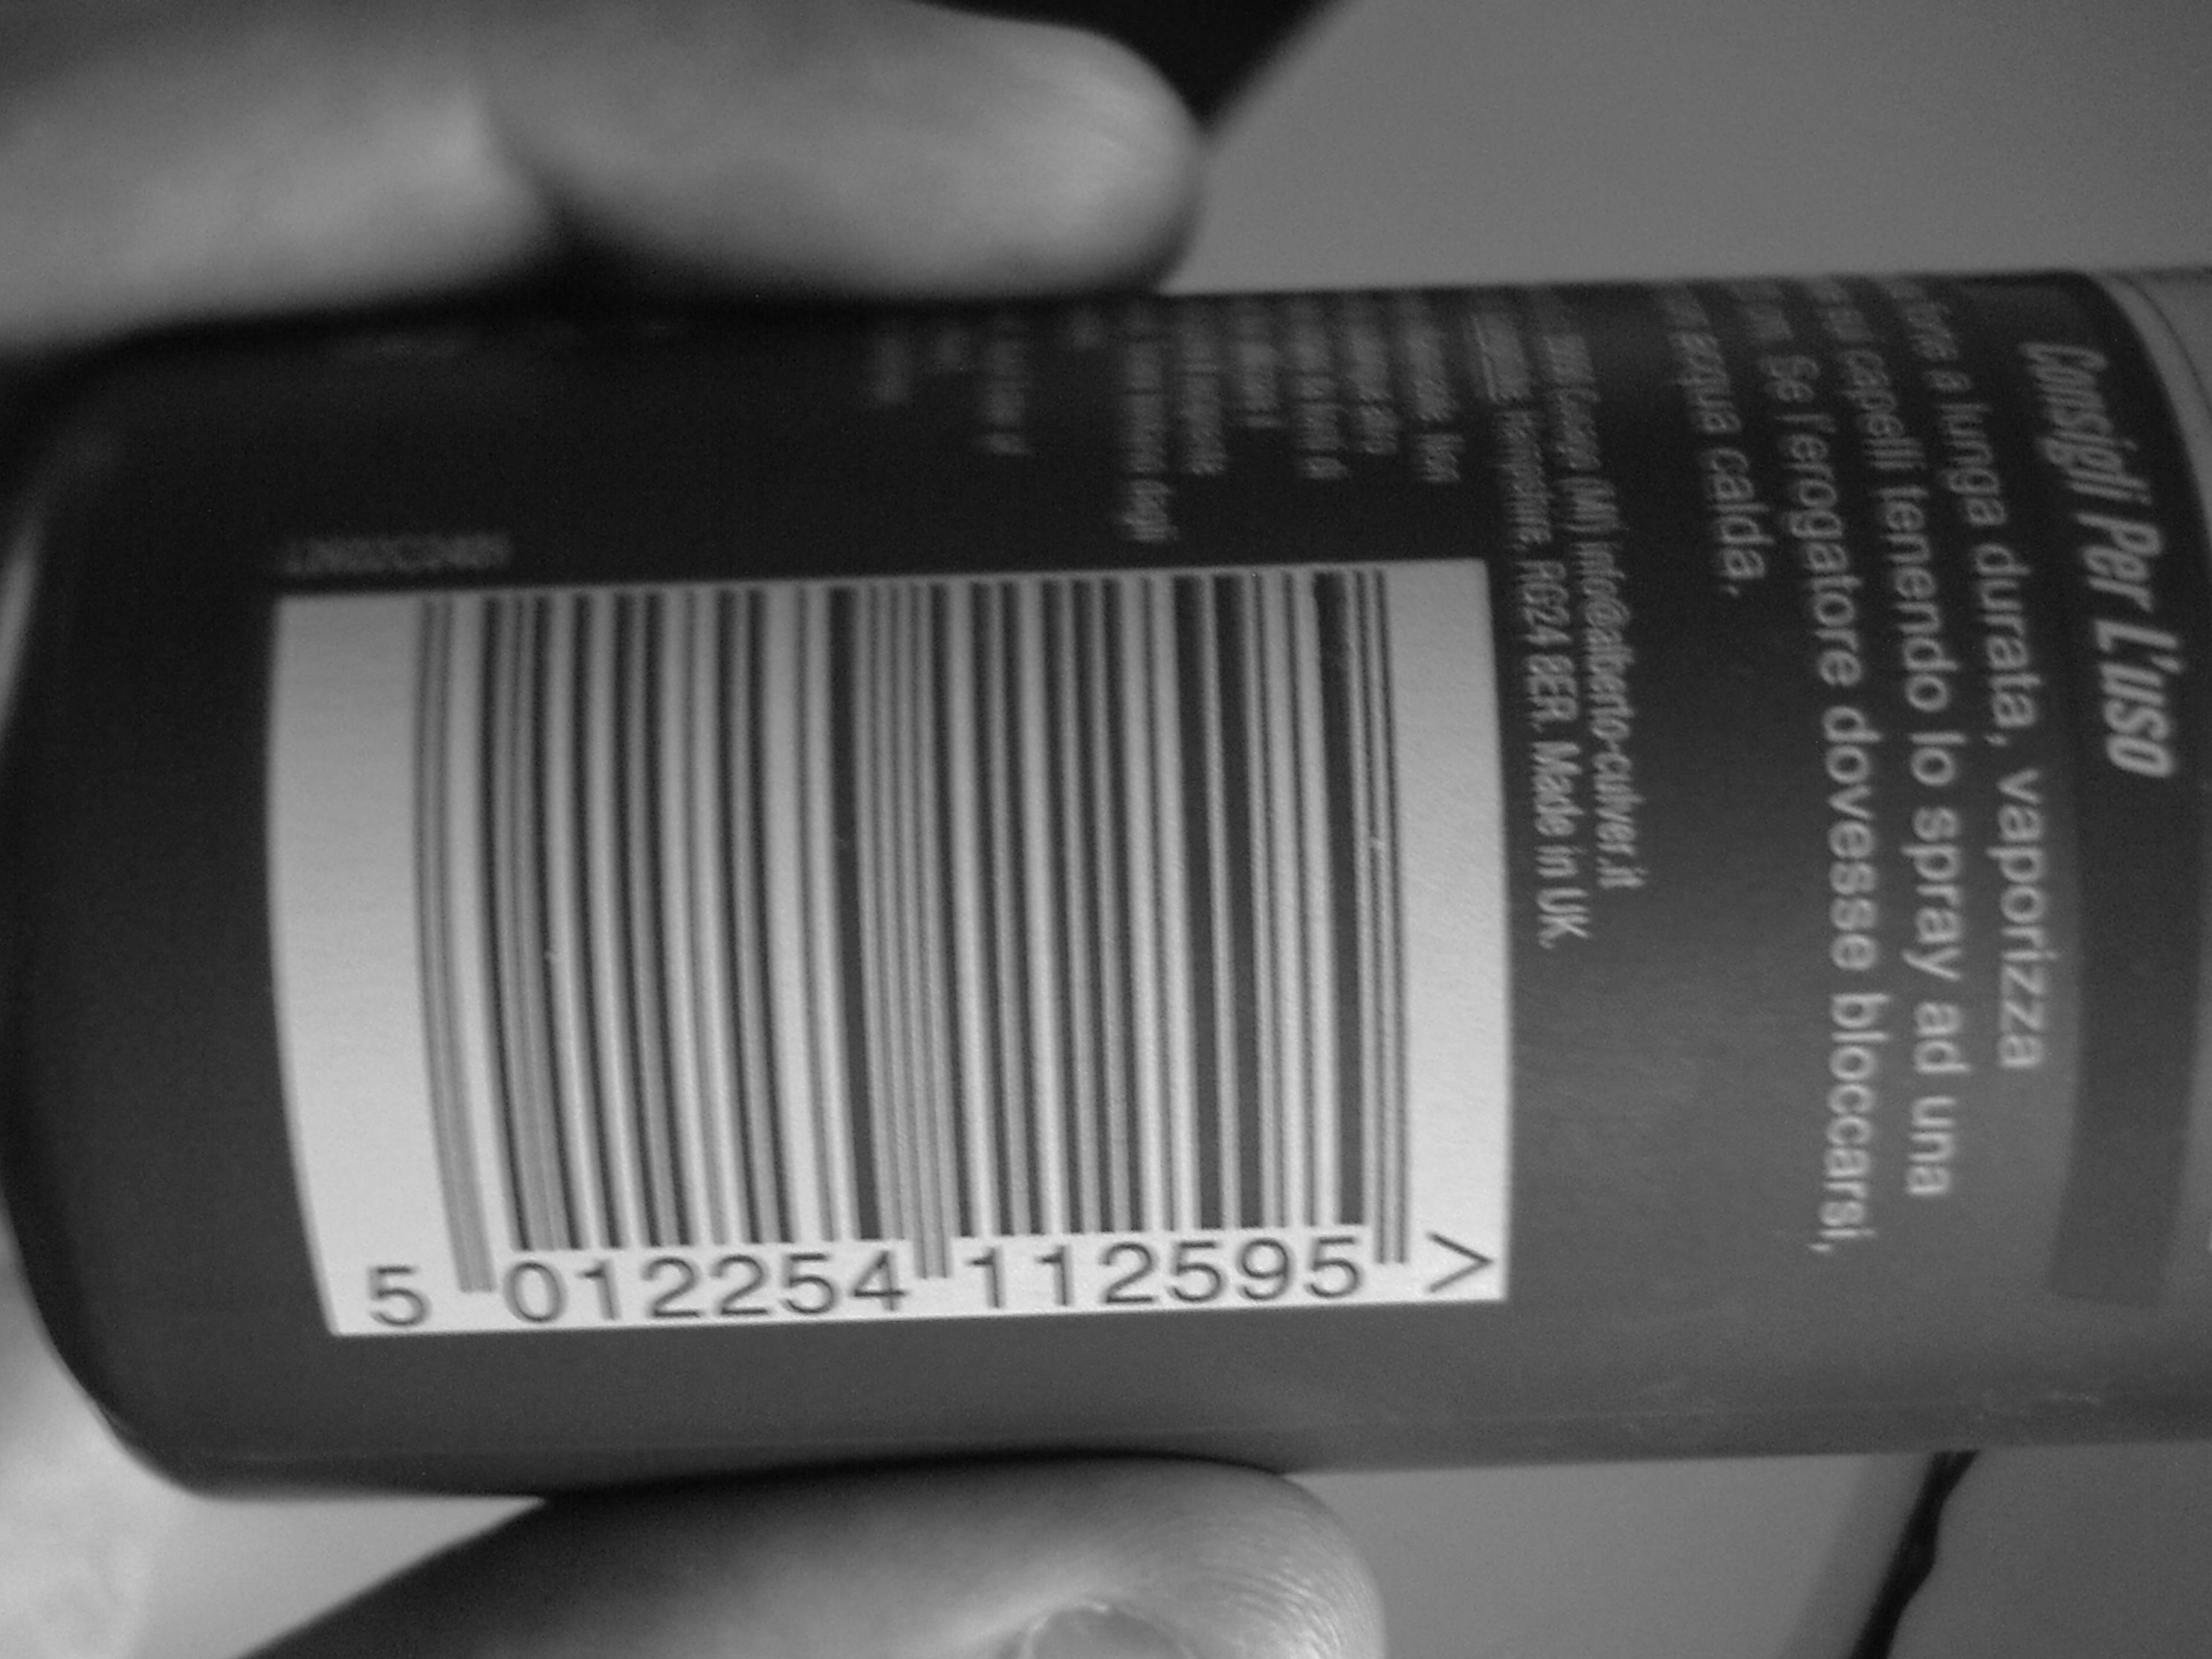Barcode: (310, 547, 1426, 1323)
